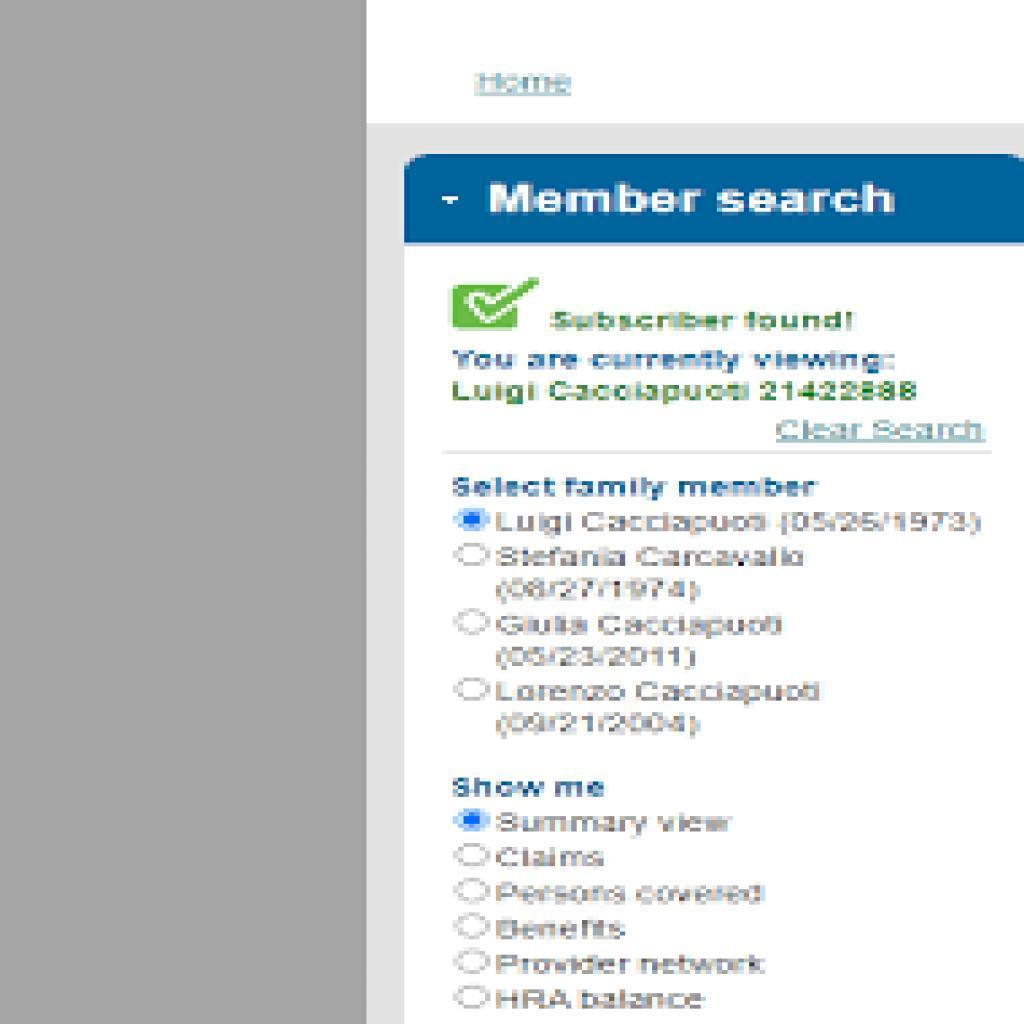checkbox: (452, 283, 517, 328)
radio: (453, 607, 494, 642), (453, 948, 495, 979), (452, 982, 492, 1014), (450, 913, 495, 941), (453, 877, 496, 906), (453, 842, 495, 870), (455, 504, 493, 534), (450, 805, 487, 835), (452, 678, 491, 706), (452, 542, 493, 568)
